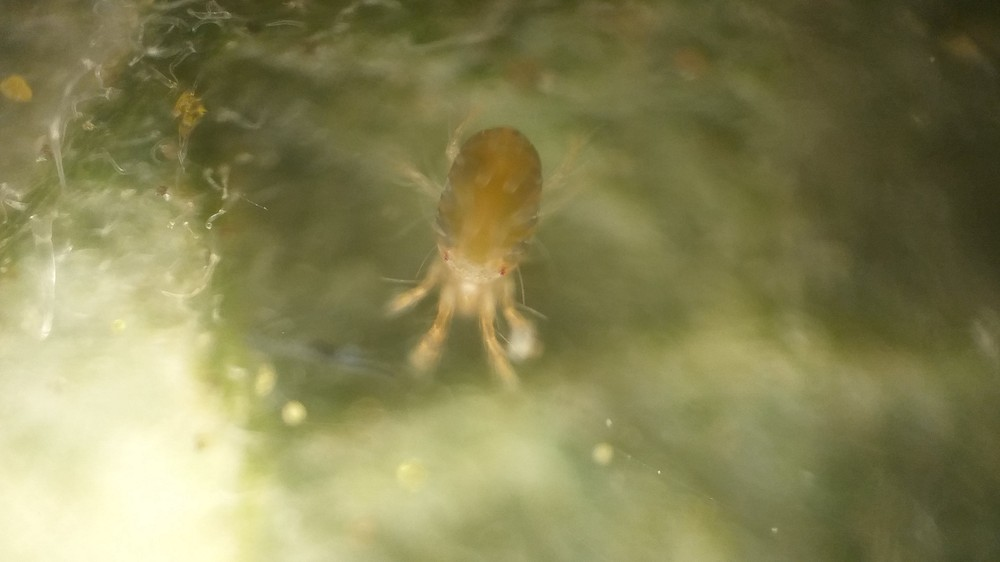Aracnido Rojo: (342, 99, 629, 414)
